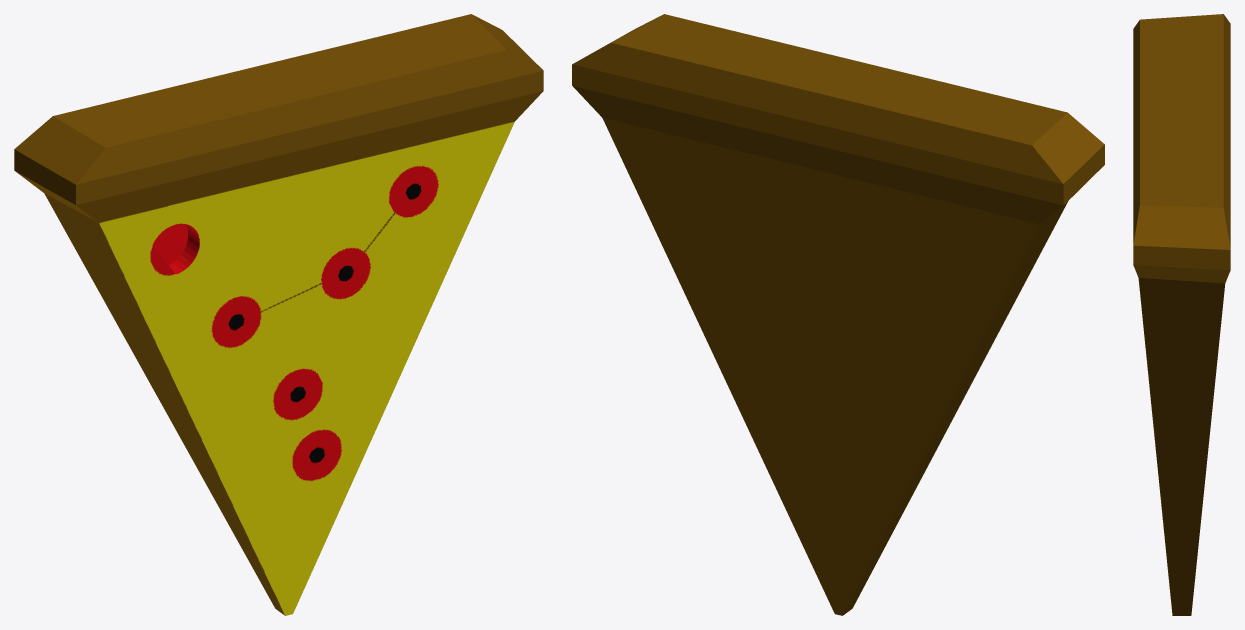
The model's file is Food.fbx.
3 renders of one model, left to right at view 1: azimuth 30°, elevation 25°; view 2: azimuth 150°, elevation 25°; view 3: azimuth 270°, elevation 25°, orthographic. The views are drawn at different scales.
Parts seen in each view (by area): view 1: Cube; view 2: Cube; view 3: Cube.
Boxes of the visible parts, x1,y1,x2,y2 form: Cube: (14, 14, 543, 615); Cube: (572, 14, 1104, 615); Cube: (1133, 14, 1230, 615).
Size of the model in its own units: 225 by 233 by 40.95.
